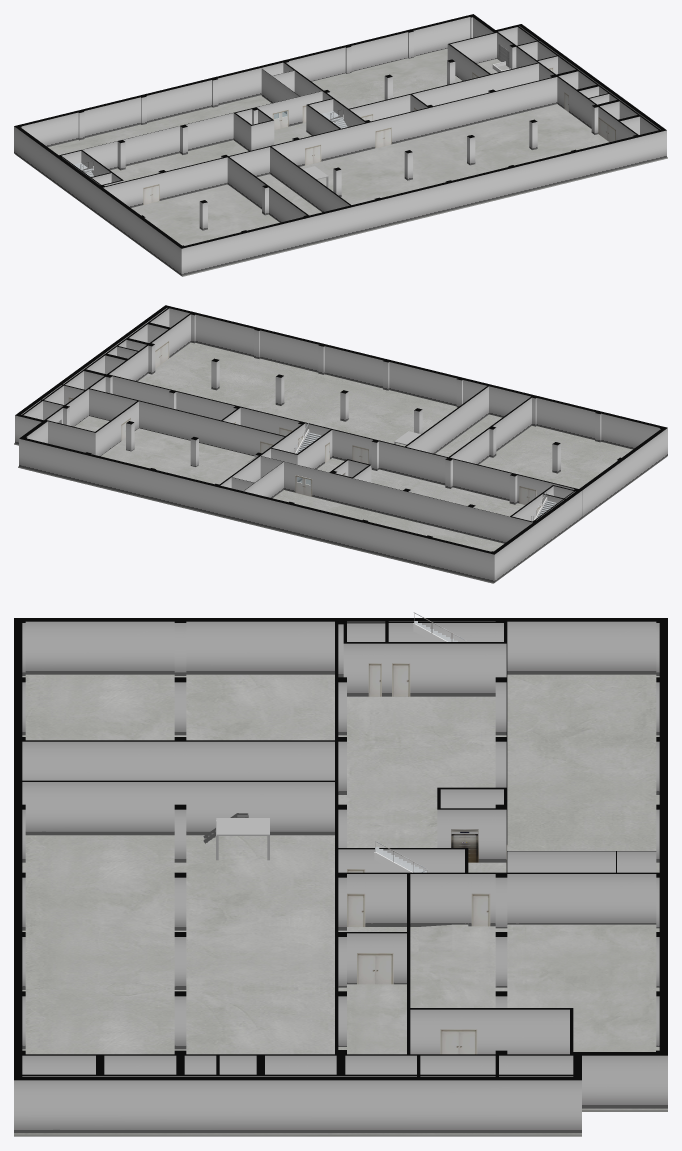
3 renders of one model, top to bottom at view 1: azimuth 30°, elevation 25°; view 2: azimuth 150°, elevation 25°; view 3: azimuth 270°, elevation 25°, orthographic. The views are drawn at different scales.
Parts seen in each view (by area): view 1: Rectangle2261, Line134, B1, Rectangle2266; view 2: Rectangle2261, Line134, B1, Rectangle2266; view 3: Rectangle2261, Line134, B1, Rectangle2266, Box028.
Part boxes in pixels (x1,y1,x2,y2): Rectangle2261: (14, 14, 666, 275); Line134: (15, 95, 667, 276); B1: (312, 48, 509, 108); Rectangle2266: (143, 67, 615, 204); Rectangle2261: (15, 305, 667, 582); Line134: (14, 342, 666, 583); B1: (74, 416, 255, 484); Rectangle2266: (68, 341, 541, 513); Rectangle2261: (14, 618, 667, 1133); Line134: (14, 674, 667, 1136); B1: (338, 924, 659, 1054); Rectangle2266: (347, 663, 507, 1054); Box028: (216, 818, 269, 835).
Size of the model in its own units: 65.52 by 4.93 by 39.1.
13 materials, 9 textured.
